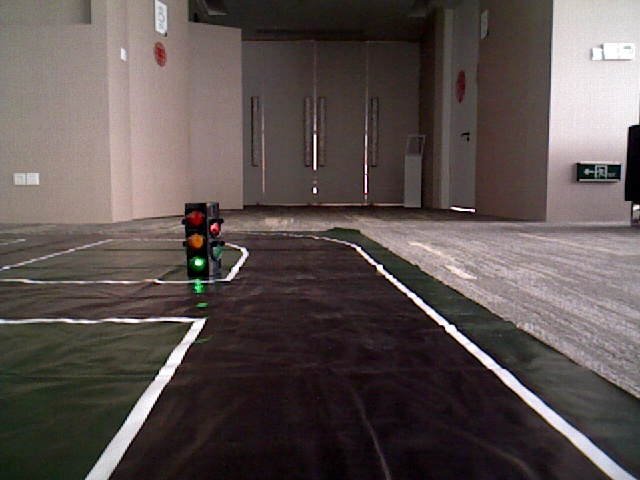green: (184, 205, 208, 272)
